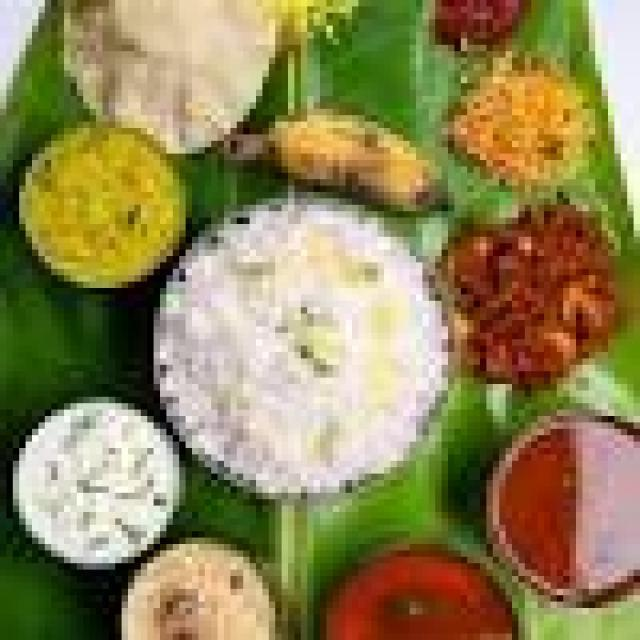dal: (15, 121, 187, 286)
papad: (62, 0, 289, 144)
pickle: (425, 3, 535, 47)
raita: (11, 398, 186, 566)
rice: (159, 186, 447, 482)
sambar-rasam: (313, 537, 510, 640)
veg-fry: (435, 195, 615, 377)
